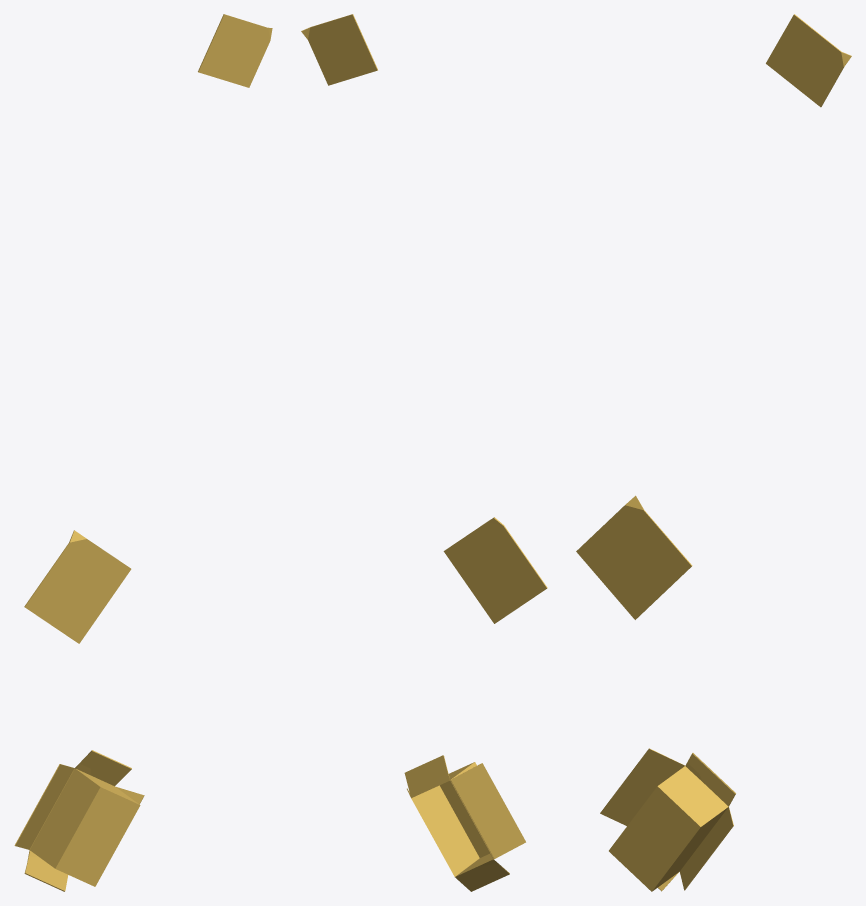
3 views of the same model, side by side, from view 1: azimuth 30°, elevation 25°; view 2: azimuth 150°, elevation 25°; view 3: azimuth 330°, elevation 25° (orthographic). The views are drawn at different scales.
Parts seen in each view (by area): view 1: caja 1; view 2: caja 1; view 3: caja 1.
Part boxes in pixels (x1,y1,x2,y2): caja 1: (14,14,272,891); caja 1: (301,14,547,891); caja 1: (576,14,851,891).
Size of the model in its own units: 4.43 by 14.45 by 0.7979.
